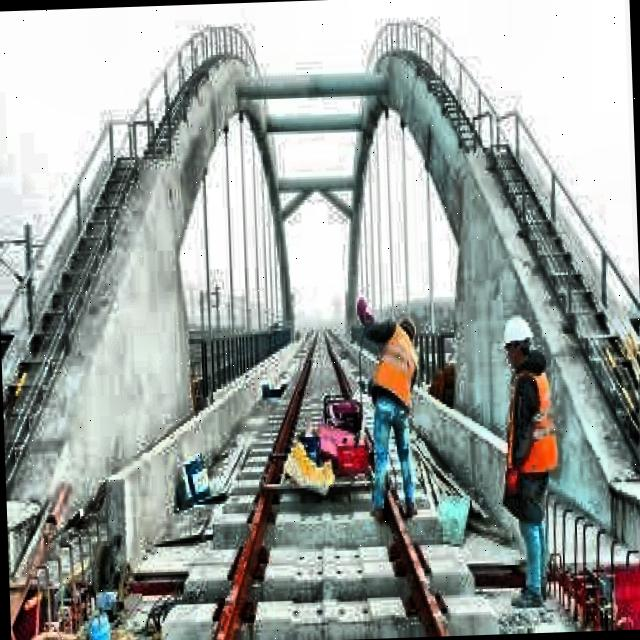helmet: (501, 311, 536, 371), (396, 305, 419, 344)
